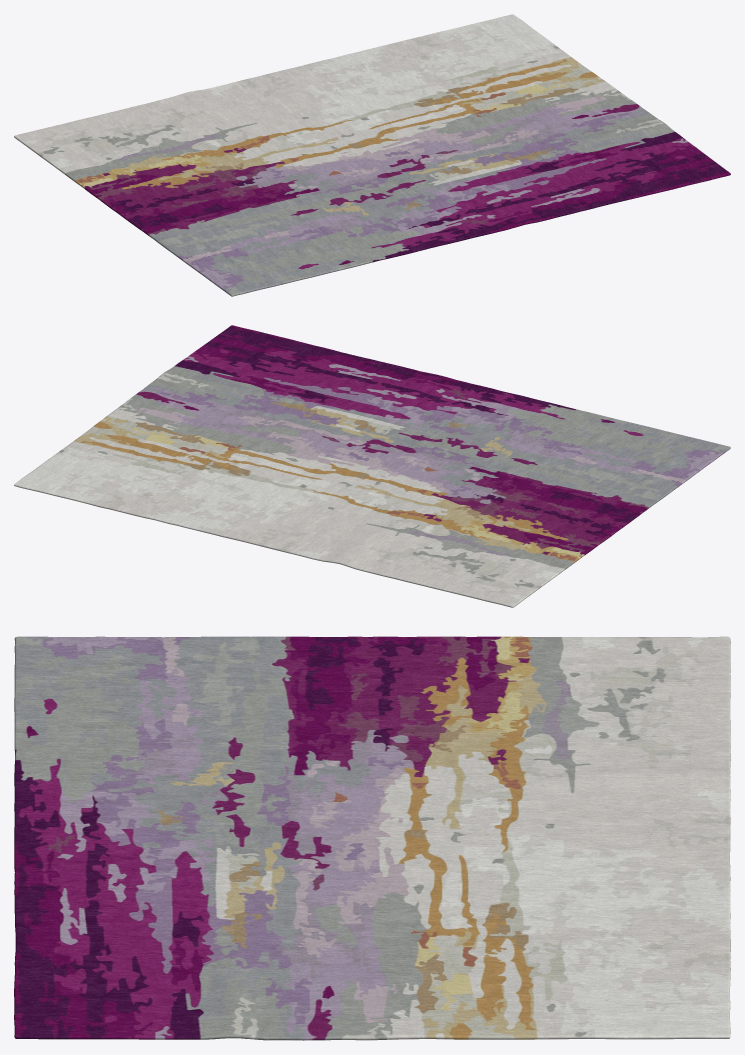
Rendered from potion.gltf.
3 views of the same model, one above another, from view 1: azimuth 30°, elevation 25°; view 2: azimuth 150°, elevation 25°; view 3: azimuth 270°, elevation 25° (orthographic). The views are drawn at different scales.
Visible parts, largest first — view 1: potion; view 2: potion; view 3: potion.
Part boxes in pixels (<box>): potion: <box>14,14,730,296</box>; potion: <box>14,325,730,607</box>; potion: <box>14,636,730,1040</box>.
Bounding box in the file's own units: 3.33 × 0.0241 × 2.52.
1 material, 1 textured.
